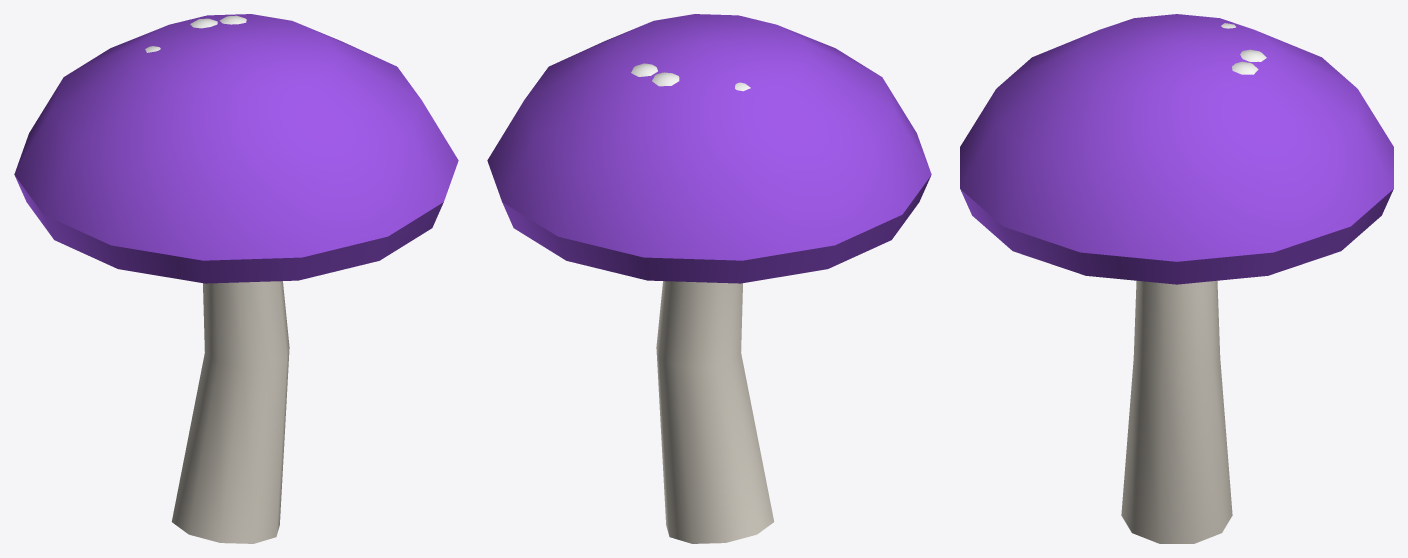
Rendered from MushroomTree.fbx.
The picture shows the model from 3 angles, left to right: view 1: azimuth 30°, elevation 25°; view 2: azimuth 150°, elevation 25°; view 3: azimuth 270°, elevation 25°; orthographic projection.
Parts seen in each view (by area): view 1: MushroomTree; view 2: MushroomTree; view 3: MushroomTree.
Part boxes in pixels (<box>): MushroomTree: <box>14,14,458,543</box>; MushroomTree: <box>487,14,931,543</box>; MushroomTree: <box>960,14,1393,543</box>.
Bounding box in the file's own units: 7.2 × 8.61 × 7.02.
1 material, 1 textured.
